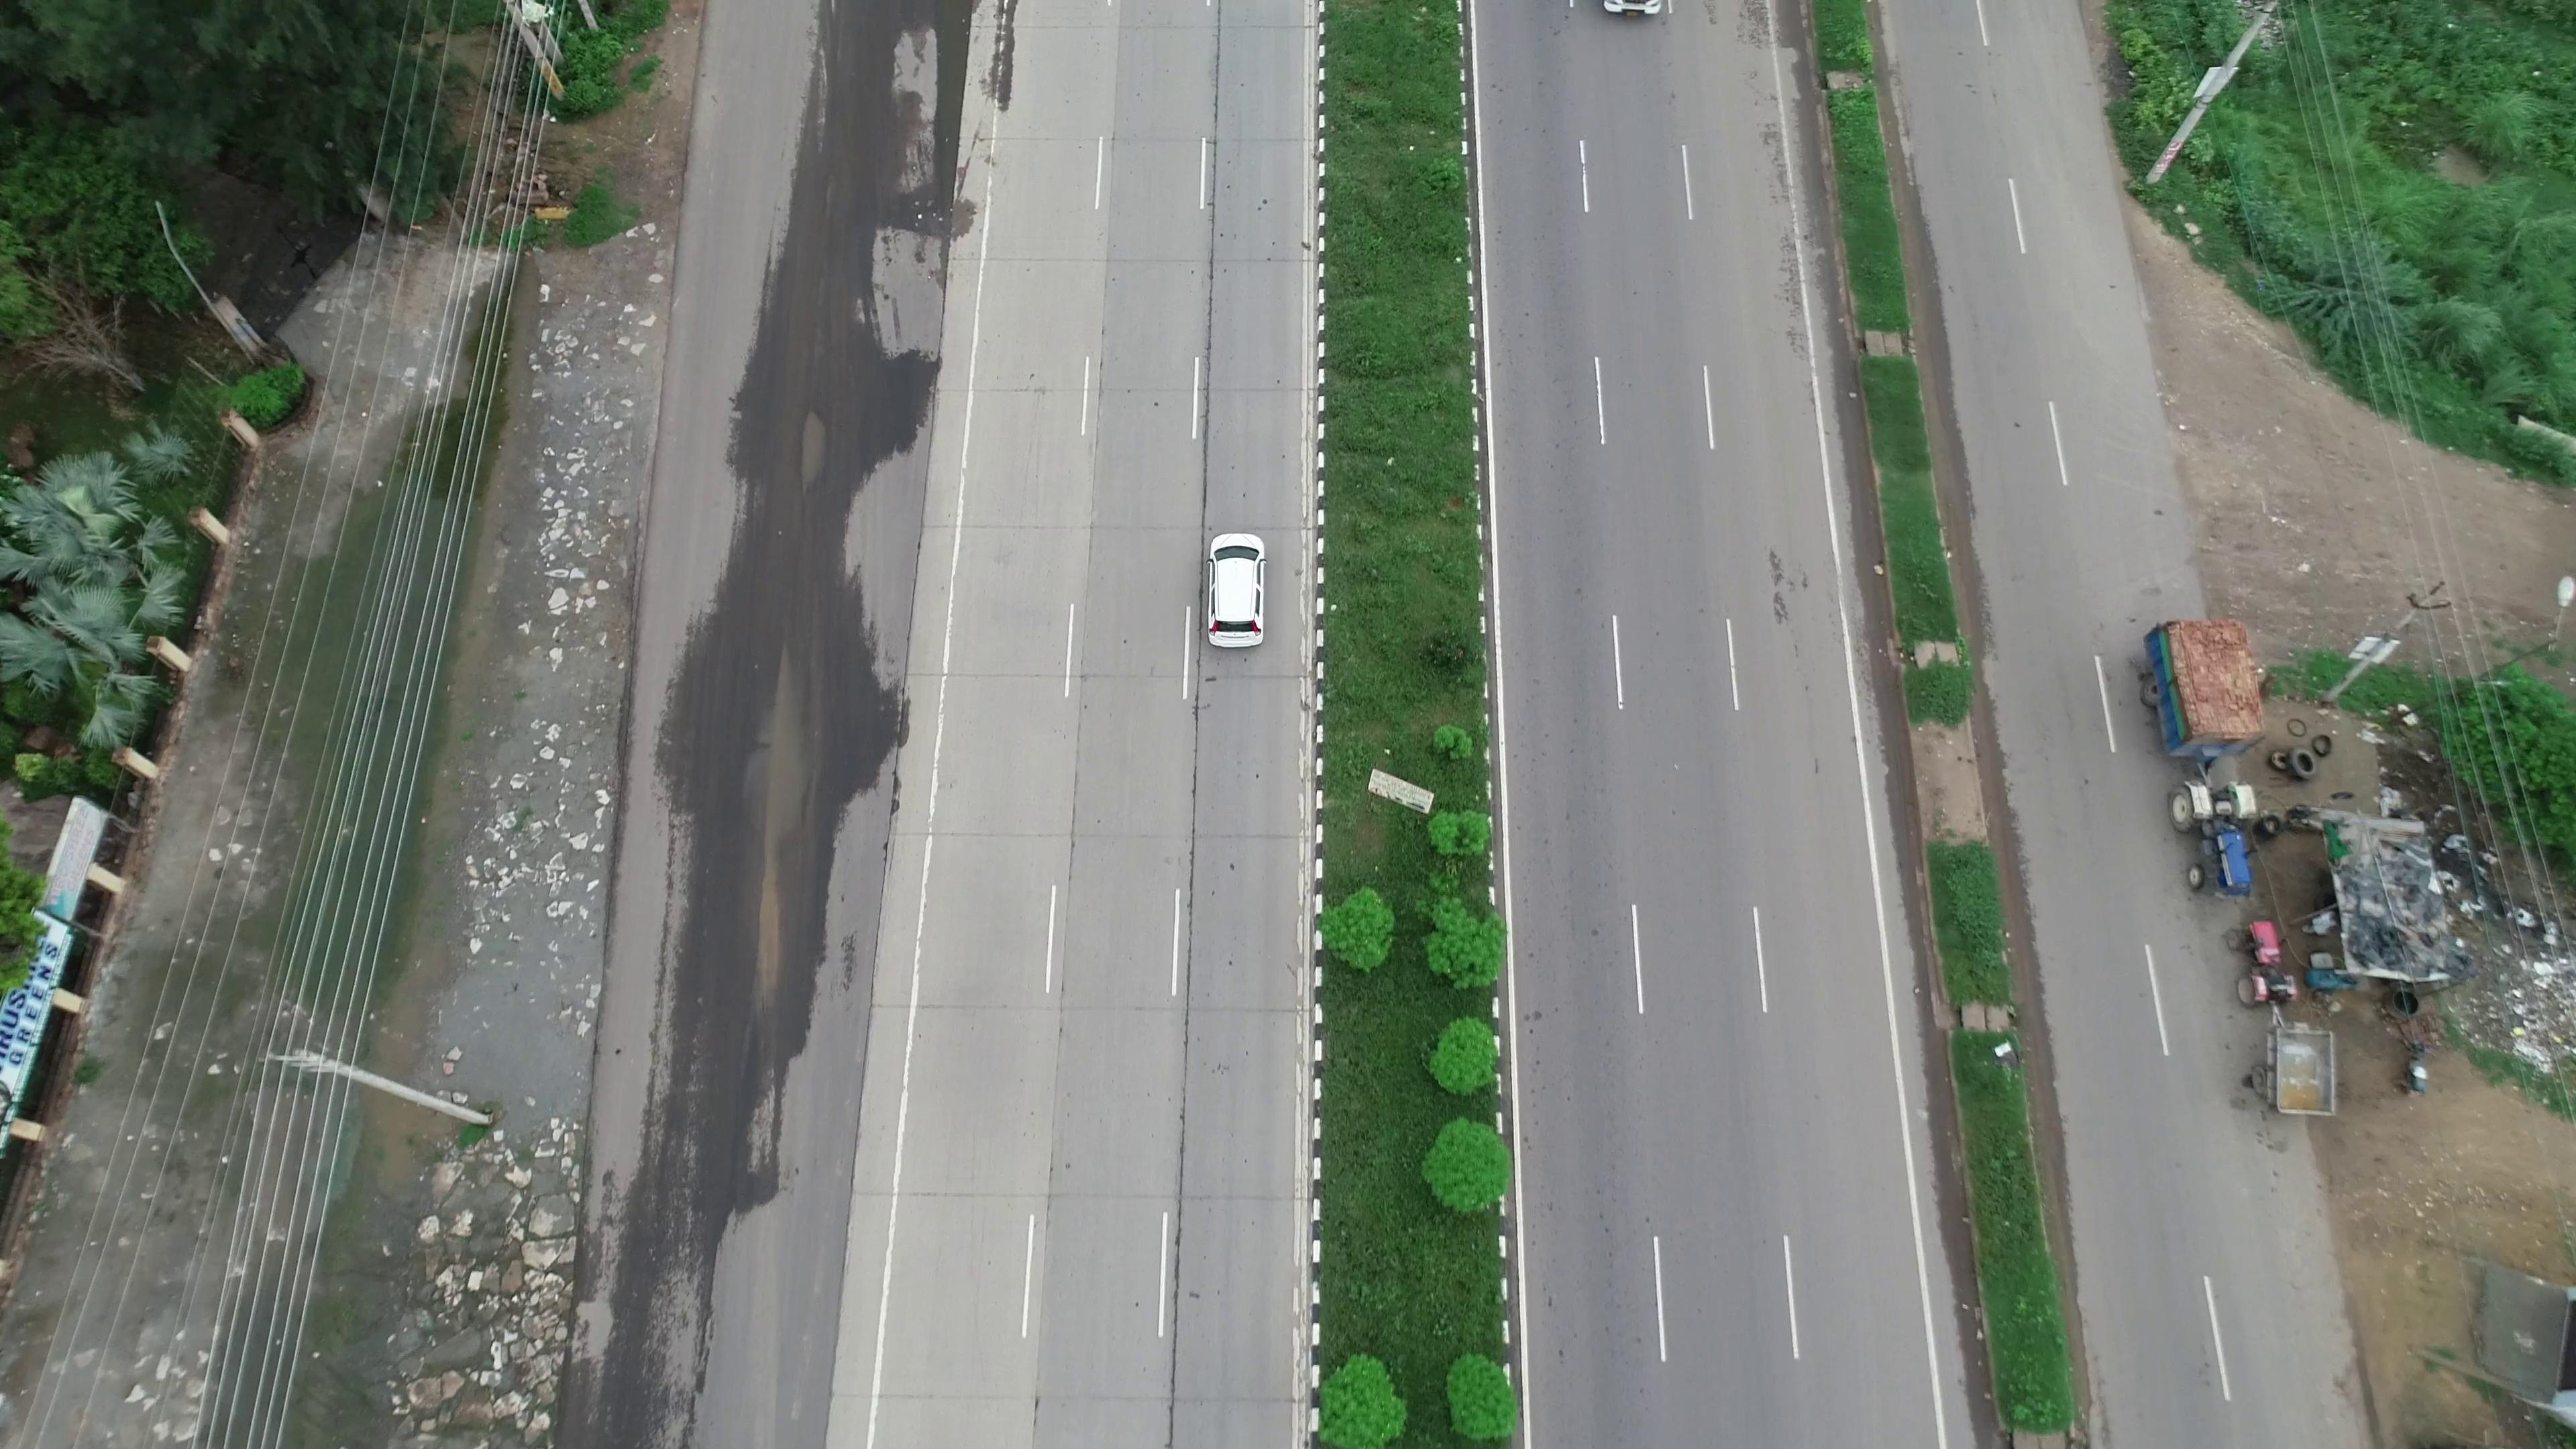Waterlogging: (777, 396, 851, 529)
